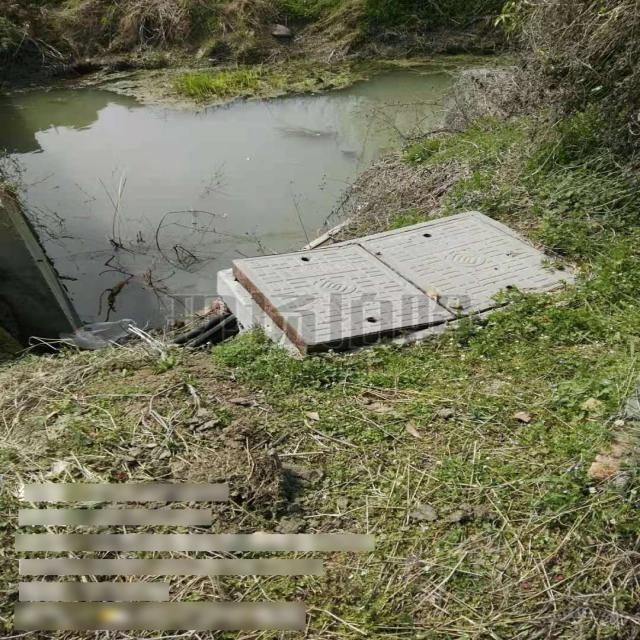Lose: (214, 208, 586, 356)
